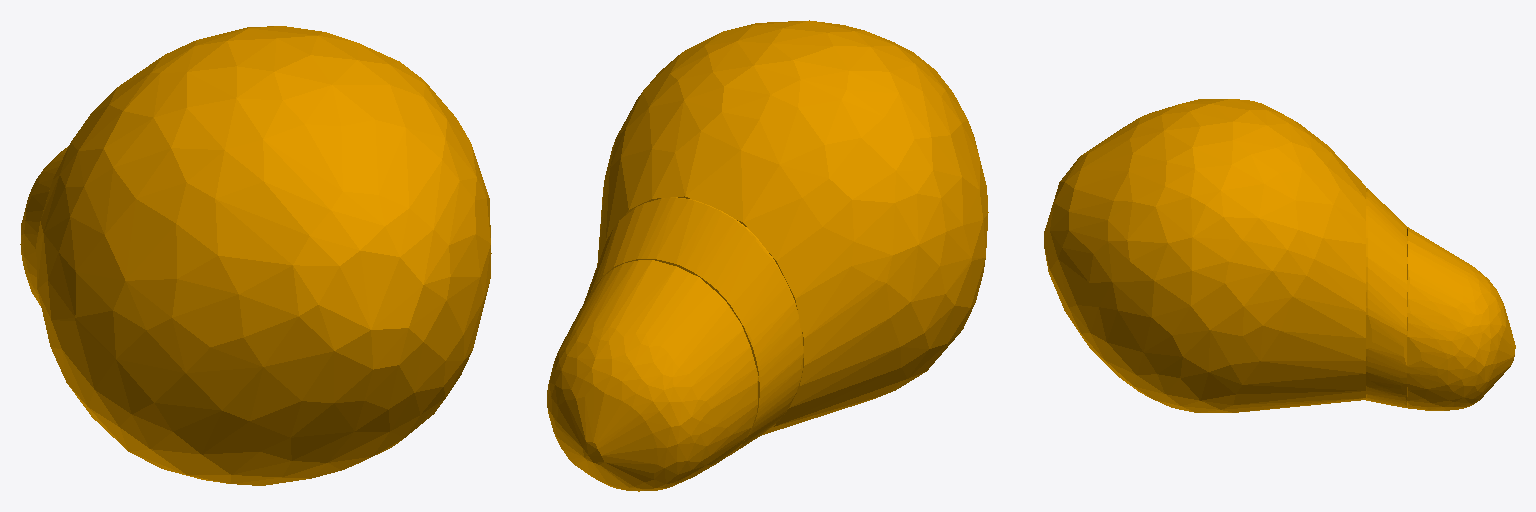
URDF robot description (016_pear):
<?xml version="1.0" encoding="UTF-8"?>
<robot name="016_pear">
	<link name="base">
		<collision>
			<geometry>
				<mesh filename="..\vhacd\016_pear_vhacd.obj" scale="1.0 1.0 1.0"/>
			</geometry>
			<origin xyz="0 0 0"/>
			<contact_coefficients mu="0.24" />
		</collision>
		<visual>
			<geometry>
				<mesh filename="..\vhacd\016_pear_vhacd.obj" scale="1.0 1.0 1.0"/>
			</geometry>
			<origin xyz="0 0 0"/>
		</visual>
		<inertial>
			<mass value="0"/>
			<inertia ixx="0.0" ixy="-0.0" ixz="-0.0" iyy="0.0" iyz="0.0" izz="0.0" />
			<origin xyz="-0.0325427338027711 0.011075535450900547 0.030040521541165918"/>
		</inertial>
	</link>
</robot>

--- Facts derived from the render (not from the file) ---
3 views of the same robot in one strip: view 1: azimuth 30°, elevation 25°; view 2: azimuth 150°, elevation 25°; view 3: azimuth 270°, elevation 25° (orthographic).
Model 016_pear with 1 links and 0 joints (none), rooted at base, posed all joints at 0.
Links seen in each view (by area): view 1: base; view 2: base; view 3: base.
Boxes of the visible links, <box> form: base: <box>20,26,491,485</box>; base: <box>547,20,988,491</box>; base: <box>1044,99,1515,412</box>.
Bounding box of the posed robot: 0.0668 × 0.1007 × 0.0659 m (x, y, z).
1 mesh visuals loaded from 1 distinct referenced files (1 OBJ).